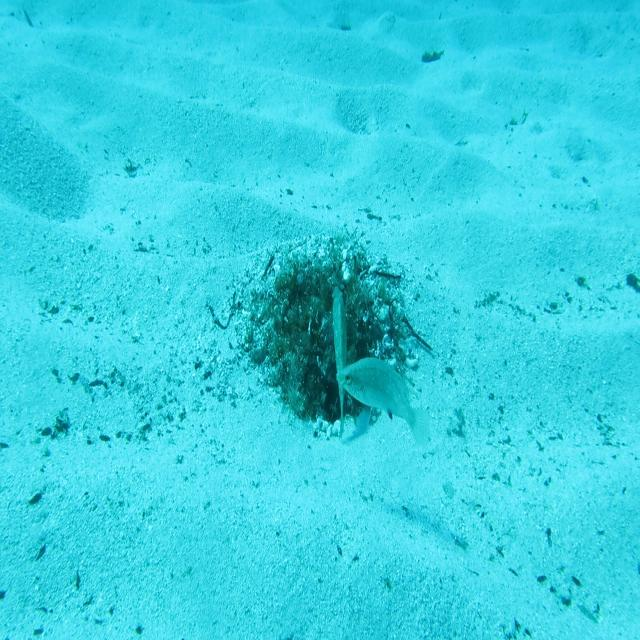FAN: (325, 282, 355, 444)
core_nest: (300, 278, 342, 306)
female: (335, 354, 431, 454)
nest: (226, 217, 424, 448)
vegetation: (421, 48, 446, 66), (625, 273, 640, 295)
